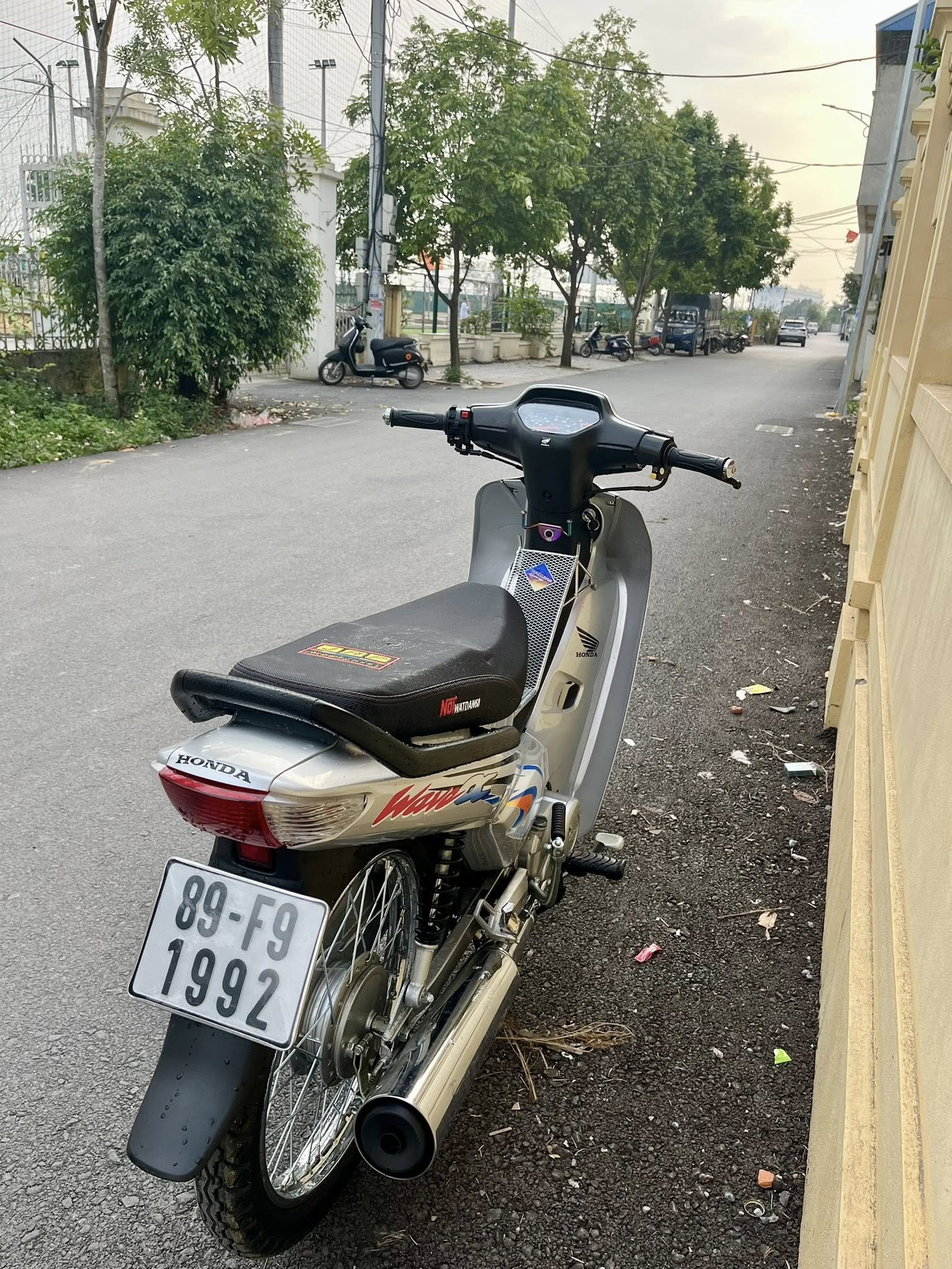bien_so: (128, 844, 337, 1065)
